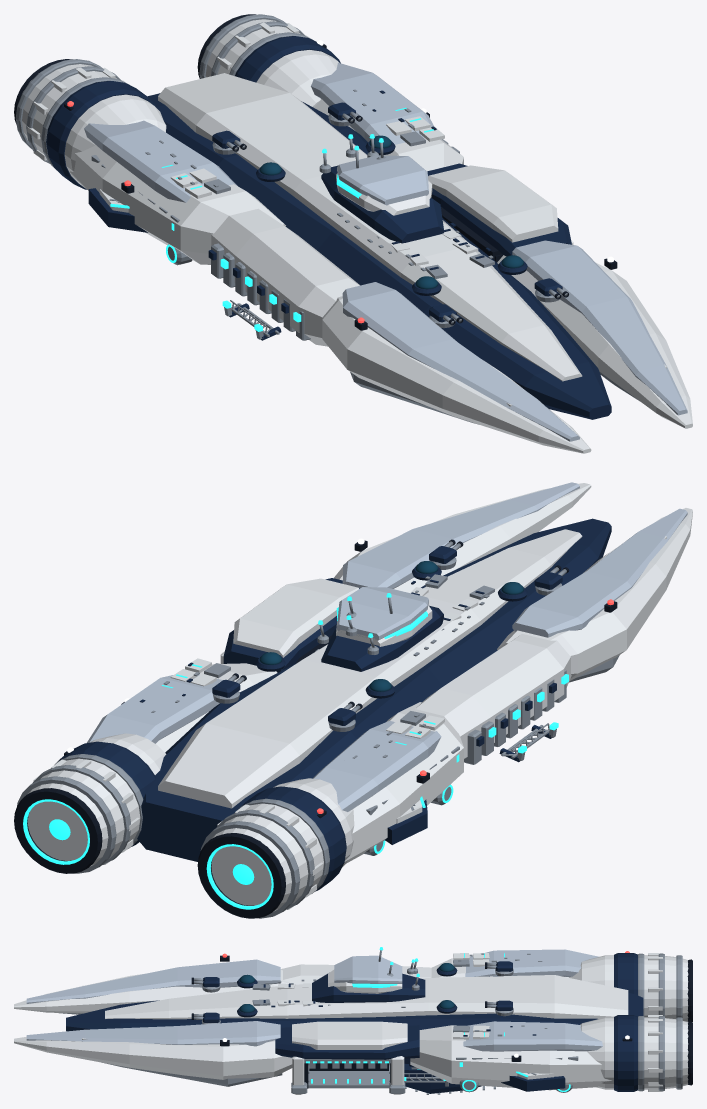
Rendered from helion_mothership_hull.glb.
3 renders of one model, top to bottom at view 1: azimuth 30°, elevation 25°; view 2: azimuth 150°, elevation 25°; view 3: azimuth 270°, elevation 25°, orthographic. The views are drawn at different scales.
Parts seen in each view (by area): view 1: Keel and armored dorsal spine, Port prow armor, Port aft shoulder and service panels, Starboard prow armor, Port structural bulkhead, Main drive nacelle 01, Main drive nacelle 02, Hangar canopy and armored mouth, Command bridge and panoramic optics, Starboard aft shoulder and service panels, Dorsal and ventral turret batteries, Sensor spires and shield emitters (+5 smaller); view 2: Keel and armored dorsal spine, Main drive nacelle 01, Main drive nacelle 02, Port prow armor, Port aft shoulder and service panels, Port structural bulkhead, Starboard prow armor, Hangar canopy and armored mouth, Starboard aft shoulder and service panels, Command bridge and panoramic optics, Dorsal and ventral turret batteries, Sensor spires and shield emitters (+4 smaller); view 3: Keel and armored dorsal spine, Starboard prow armor, Starboard aft shoulder and service panels, Main drive nacelle 02, Hangar canopy and armored mouth, Port prow armor, Main drive nacelle 01, Command bridge and panoramic optics, Port aft shoulder and service panels, Recessed hangar interior and landing deck, Keel armor, vent grilles and registry marks, Dorsal and ventral turret batteries (+6 smaller).
Boxes of the visible parts, <box> form: Keel and armored dorsal spine: <box>147,73,611,419</box>; Port prow armor: <box>322,282,591,453</box>; Port aft shoulder and service panels: <box>70,120,285,264</box>; Starboard prow armor: <box>497,240,692,428</box>; Port structural bulkhead: <box>208,208,359,346</box>; Main drive nacelle 01: <box>14,59,166,189</box>; Main drive nacelle 02: <box>197,14,340,107</box>; Hangar canopy and armored mouth: <box>427,163,573,256</box>; Command bridge and panoramic optics: <box>321,155,443,243</box>; Starboard aft shoulder and service panels: <box>311,62,463,171</box>; Dorsal and ventral turret batteries: <box>212,102,568,328</box>; Sensor spires and shield emitters: <box>256,134,527,295</box>; Keel and armored dorsal spine: <box>137,518,611,861</box>; Main drive nacelle 01: <box>197,778,354,918</box>; Main drive nacelle 02: <box>14,733,166,873</box>; Port prow armor: <box>497,508,692,682</box>; Port aft shoulder and service panels: <box>313,702,463,863</box>; Port structural bulkhead: <box>415,634,571,764</box>; Starboard prow armor: <box>334,482,591,592</box>; Hangar canopy and armored mouth: <box>220,578,359,672</box>; Starboard aft shoulder and service panels: <box>87,658,277,752</box>; Command bridge and panoramic optics: <box>321,587,443,671</box>; Dorsal and ventral turret batteries: <box>212,539,569,731</box>; Sensor spires and shield emitters: <box>256,561,527,698</box>; Keel and armored dorsal spine: <box>66,975,643,1064</box>; Starboard prow armor: <box>14,1021,292,1086</box>; Starboard aft shoulder and service panels: <box>410,1021,611,1090</box>; Main drive nacelle 02: <box>580,1015,692,1091</box>; Hangar canopy and armored mouth: <box>275,1021,419,1094</box>; Port prow armor: <box>14,959,289,1014</box>; Main drive nacelle 01: <box>569,953,692,1022</box>; Command bridge and panoramic optics: <box>312,955,425,1002</box>; Port aft shoulder and service panels: <box>431,949,598,977</box>; Recessed hangar interior and landing deck: <box>304,1063,390,1088</box>; Keel armor, vent grilles and registry marks: <box>252,983,495,1094</box>; Dorsal and ventral turret batteries: <box>191,961,513,1024</box>.
Bounding box in the file's own units: 320 × 190 × 850.
